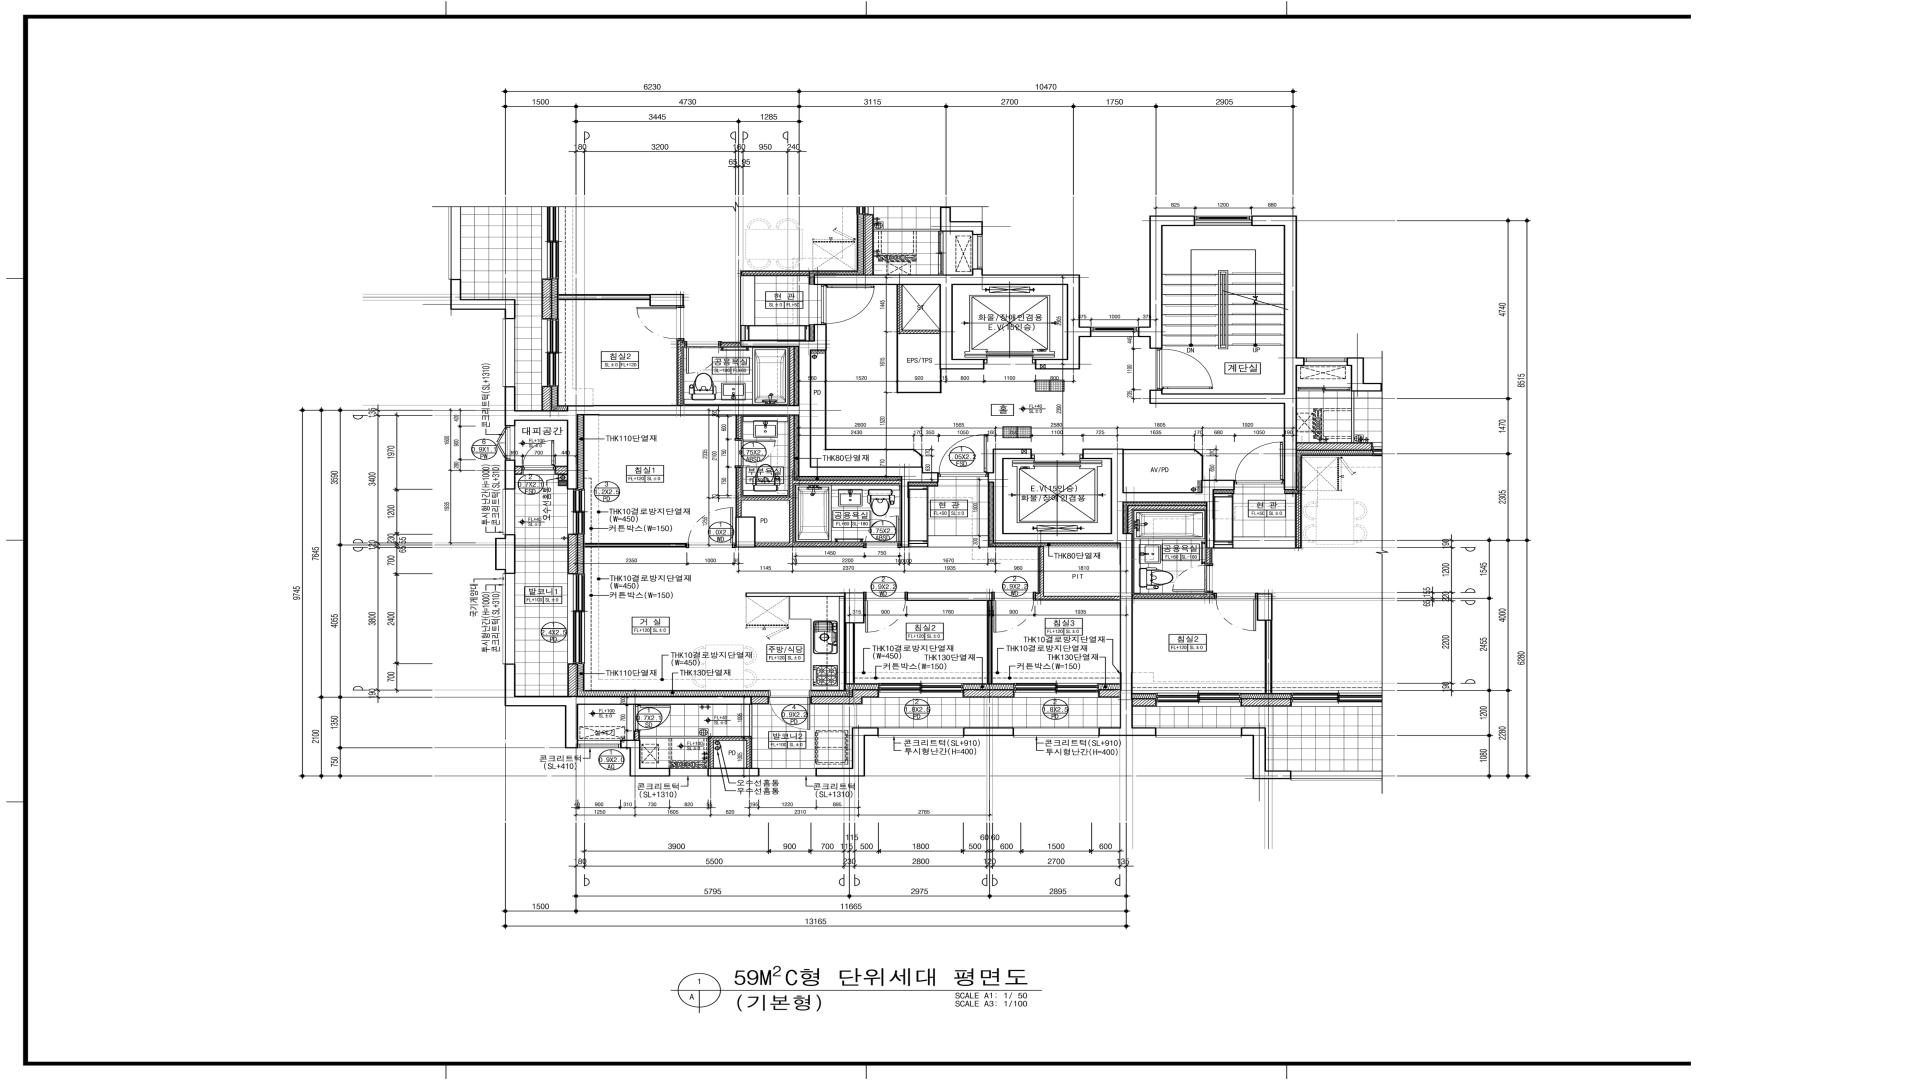door: (1156, 348, 1213, 390), (938, 434, 989, 477), (687, 508, 736, 549), (864, 592, 909, 633), (993, 592, 1035, 633), (769, 690, 811, 729), (864, 516, 901, 549), (735, 438, 775, 467), (522, 440, 555, 475), (633, 704, 671, 731)
wall: (505, 324, 939, 547), (988, 448, 1234, 736), (1150, 216, 1298, 491), (814, 274, 1092, 369), (736, 415, 901, 547), (505, 665, 752, 748), (825, 351, 923, 467), (1138, 216, 1195, 348), (1035, 546, 1120, 600), (816, 728, 878, 777), (897, 334, 942, 393), (1124, 448, 1204, 480), (897, 285, 940, 334), (844, 592, 865, 684), (620, 740, 670, 777), (708, 736, 752, 767), (811, 690, 878, 704), (495, 535, 516, 574), (907, 592, 993, 601), (736, 517, 756, 547), (745, 592, 844, 597), (708, 767, 760, 777), (988, 600, 993, 684), (567, 534, 578, 574), (583, 543, 687, 547), (963, 690, 1014, 698), (964, 728, 1014, 736), (567, 663, 578, 696), (505, 460, 516, 489), (1098, 690, 1120, 698), (736, 415, 742, 439), (752, 696, 769, 704), (555, 465, 567, 475), (909, 543, 928, 547), (633, 731, 640, 740), (516, 465, 522, 475)
window: (567, 574, 584, 663), (878, 683, 964, 698), (1014, 683, 1098, 698), (502, 574, 516, 665), (567, 489, 585, 534), (878, 728, 964, 737), (1014, 728, 1100, 737), (496, 426, 516, 460), (502, 489, 516, 535), (1195, 216, 1251, 225), (760, 769, 816, 777), (1091, 327, 1138, 336), (578, 740, 620, 748), (670, 769, 708, 777)
